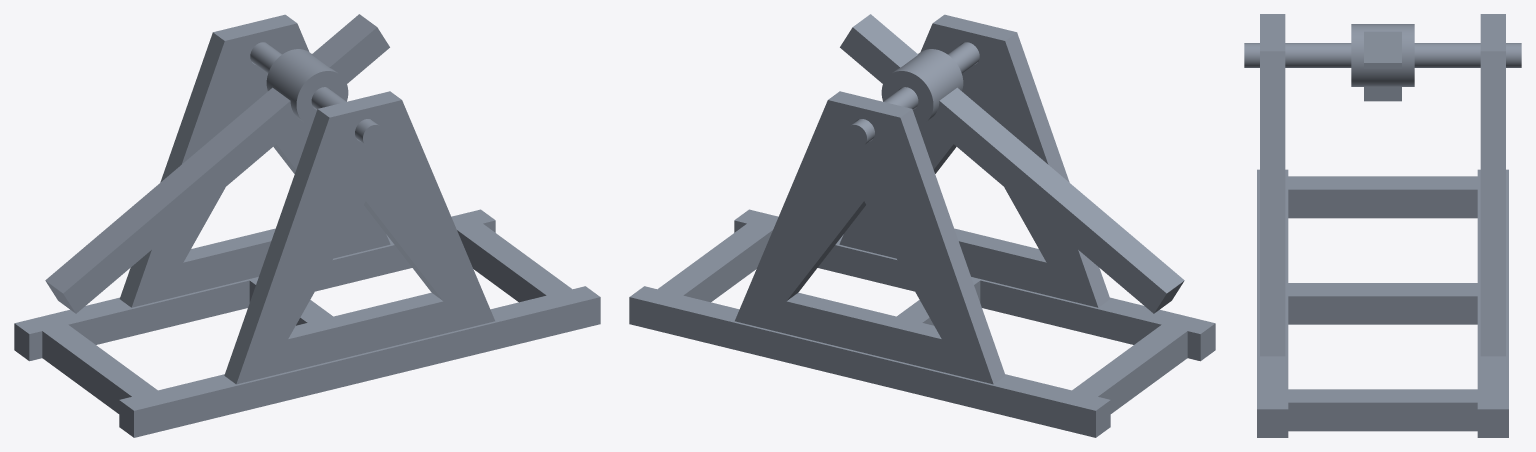
Rendered from step-3-preview-1.glb.
3 renders of one model, left to right at view 1: azimuth 30°, elevation 25°; view 2: azimuth 150°, elevation 25°; view 3: azimuth 270°, elevation 25°, orthographic. The views are drawn at different scales.
Visible parts, largest first — view 1: preview_17, preview_3, preview_10, preview_2, preview_53, preview_50, preview_23, preview_18, preview_0, preview_5, preview_28, preview_43 (+9 smaller); view 2: preview_29, preview_20, preview_11, preview_2, preview_51, preview_50, preview_22, preview_0, preview_18, preview_5, preview_25, preview_43 (+9 smaller); view 3: preview_2, preview_4, preview_19, preview_16, preview_21, preview_26, preview_40, preview_43, preview_54, preview_1, preview_35, preview_12 (+2 smaller).
Part boxes in pixels (box(x1,y1,x2,y2)): preview_17: box(236, 100, 494, 384); preview_3: box(131, 23, 390, 307); preview_10: box(134, 297, 600, 437); preview_2: box(15, 209, 599, 410); preview_53: box(63, 101, 302, 313); preview_50: box(45, 87, 290, 293); preview_23: box(68, 280, 249, 344); preview_18: box(224, 109, 329, 383); preview_0: box(119, 32, 224, 307); preview_5: box(42, 331, 131, 413); preview_28: box(315, 245, 411, 291); preview_43: box(266, 49, 337, 120); preview_29: box(735, 100, 993, 384); preview_20: box(839, 23, 1098, 307); preview_11: box(629, 297, 1095, 437); preview_2: box(630, 209, 1214, 410); preview_51: box(927, 101, 1166, 313); preview_50: box(939, 87, 1184, 293); preview_22: box(980, 280, 1161, 344); preview_0: box(900, 109, 1005, 383); preview_18: box(1005, 32, 1110, 307); preview_5: box(1098, 331, 1187, 413); preview_25: box(818, 245, 914, 291); preview_43: box(892, 49, 963, 120); preview_2: box(1257, 169, 1508, 409); preview_4: box(1480, 51, 1505, 356); preview_19: box(1260, 51, 1285, 356); preview_16: box(1288, 402, 1477, 431); preview_21: box(1288, 189, 1477, 218); preview_26: box(1288, 296, 1477, 324); preview_40: box(1244, 43, 1521, 67); preview_43: box(1351, 24, 1414, 86); preview_54: box(1364, 31, 1401, 62); preview_1: box(1480, 14, 1505, 51); preview_35: box(1260, 14, 1285, 51); preview_12: box(1257, 409, 1288, 437).
Bounding box in the file's own units: 0.1878 × 0.1113 × 0.088.
